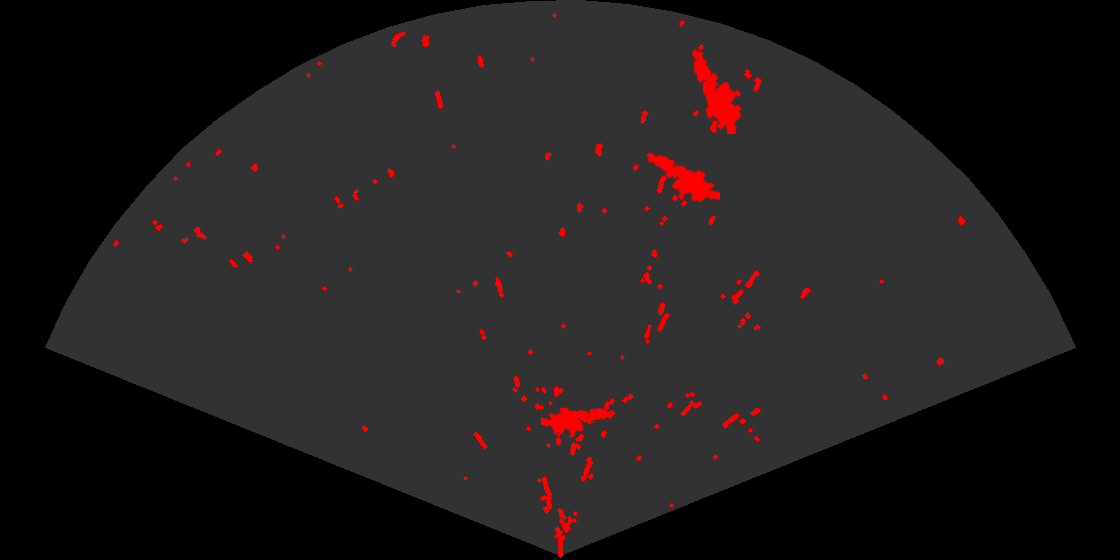frogman: (690, 47, 744, 134), (645, 151, 720, 204), (541, 406, 617, 440)
